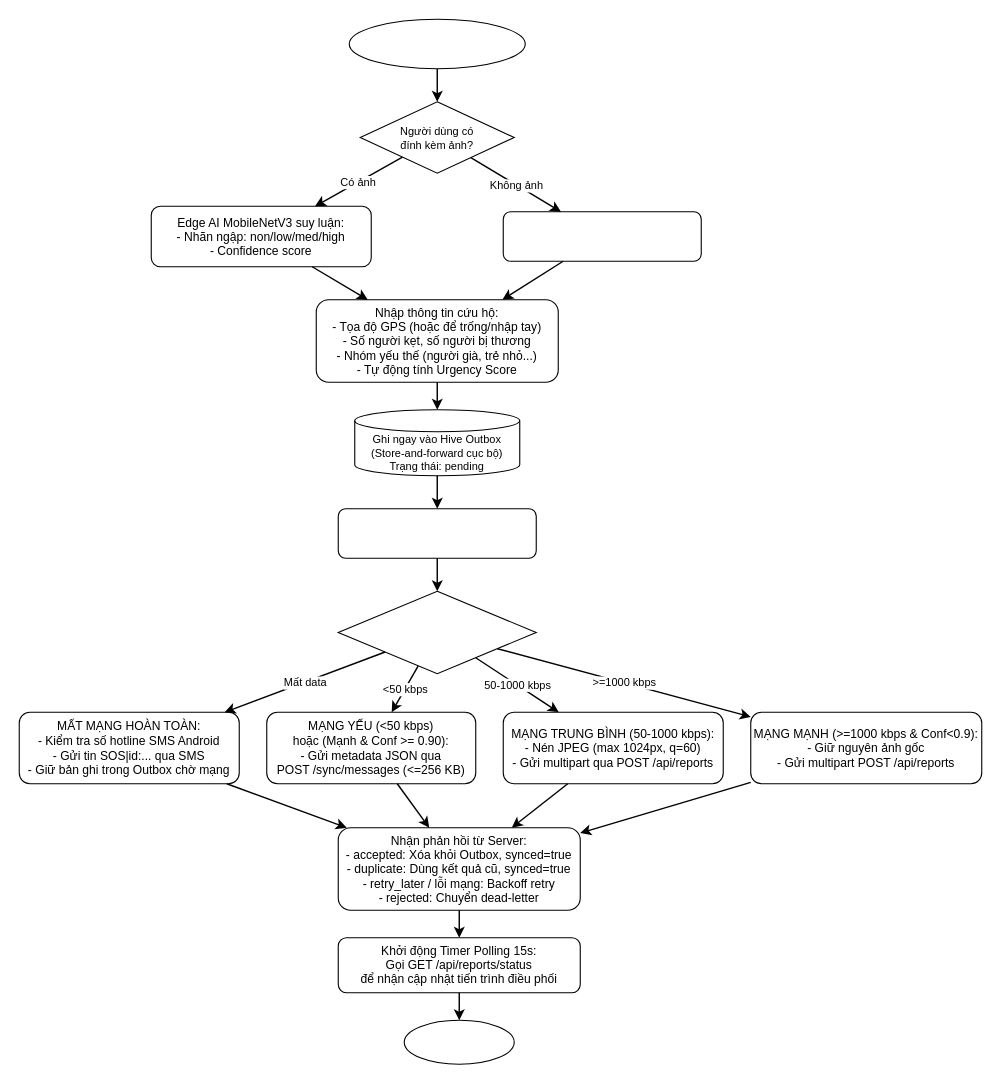
Image size: 1001x1084. Some labels were removed from this diagram. Each missing label, with the box of its shape:
Gọi GET /probe (64 KB) Đo thông lượng mạng thực tế (kbps): (337, 508, 536, 558)
Hoàn tất luồng client: (403, 1019, 514, 1064)
Không có ảnh: Gán nhãn non_flood mặc định: (502, 211, 701, 261)
Khởi tạo Báo cáo (SOS / Post): (348, 18, 525, 69)
Phân loại thông lượng & Điều kiện gửi?: (337, 590, 536, 674)
